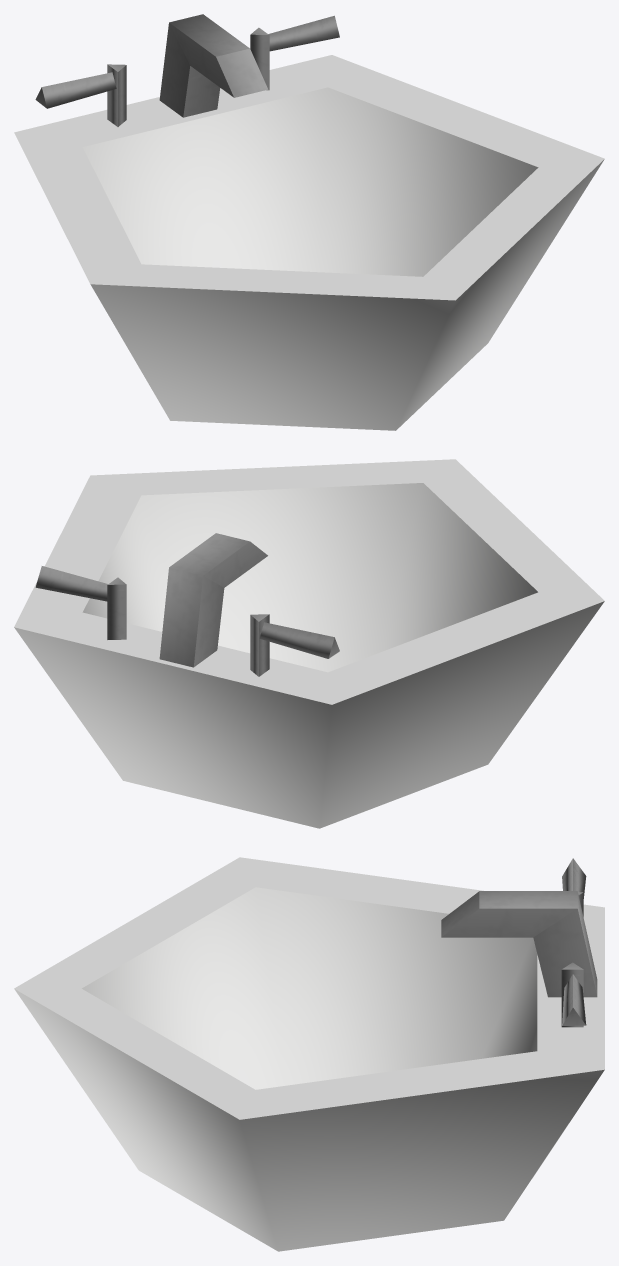
The model's file is Sink.fbx.
The picture shows the model from 3 angles, top to bottom: view 1: azimuth 30°, elevation 25°; view 2: azimuth 150°, elevation 25°; view 3: azimuth 270°, elevation 25°; orthographic projection. The views are drawn at different scales.
Visible parts, largest first — view 1: Maya_File_Assets:TexturedAssetsCurrent:BathroomSink; view 2: Maya_File_Assets:TexturedAssetsCurrent:BathroomSink; view 3: Maya_File_Assets:TexturedAssetsCurrent:BathroomSink.
Boxes of the visible parts, x1=… form: Maya_File_Assets:TexturedAssetsCurrent:BathroomSink: x1=14, y1=14, x2=604, y2=430; Maya_File_Assets:TexturedAssetsCurrent:BathroomSink: x1=14, y1=459, x2=604, y2=828; Maya_File_Assets:TexturedAssetsCurrent:BathroomSink: x1=14, y1=857, x2=604, y2=1251.
Bounding box in the file's own units: 0.7942 × 0.3818 × 0.7553.
